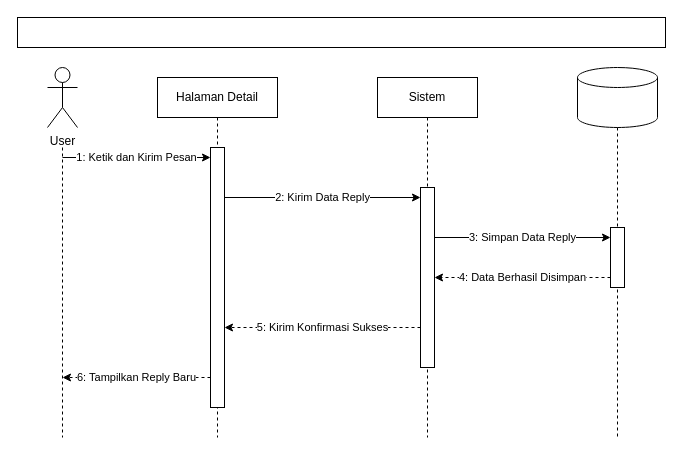
Some shapes in this 683 by 456 pixel diagram are drawn without their labels. Each missing label, with the centre of its shape:
Database: point (617, 97)
SEQUENCE DIAGRAM DISKUSI / REPLY KOMENTAR: point (341, 32)
